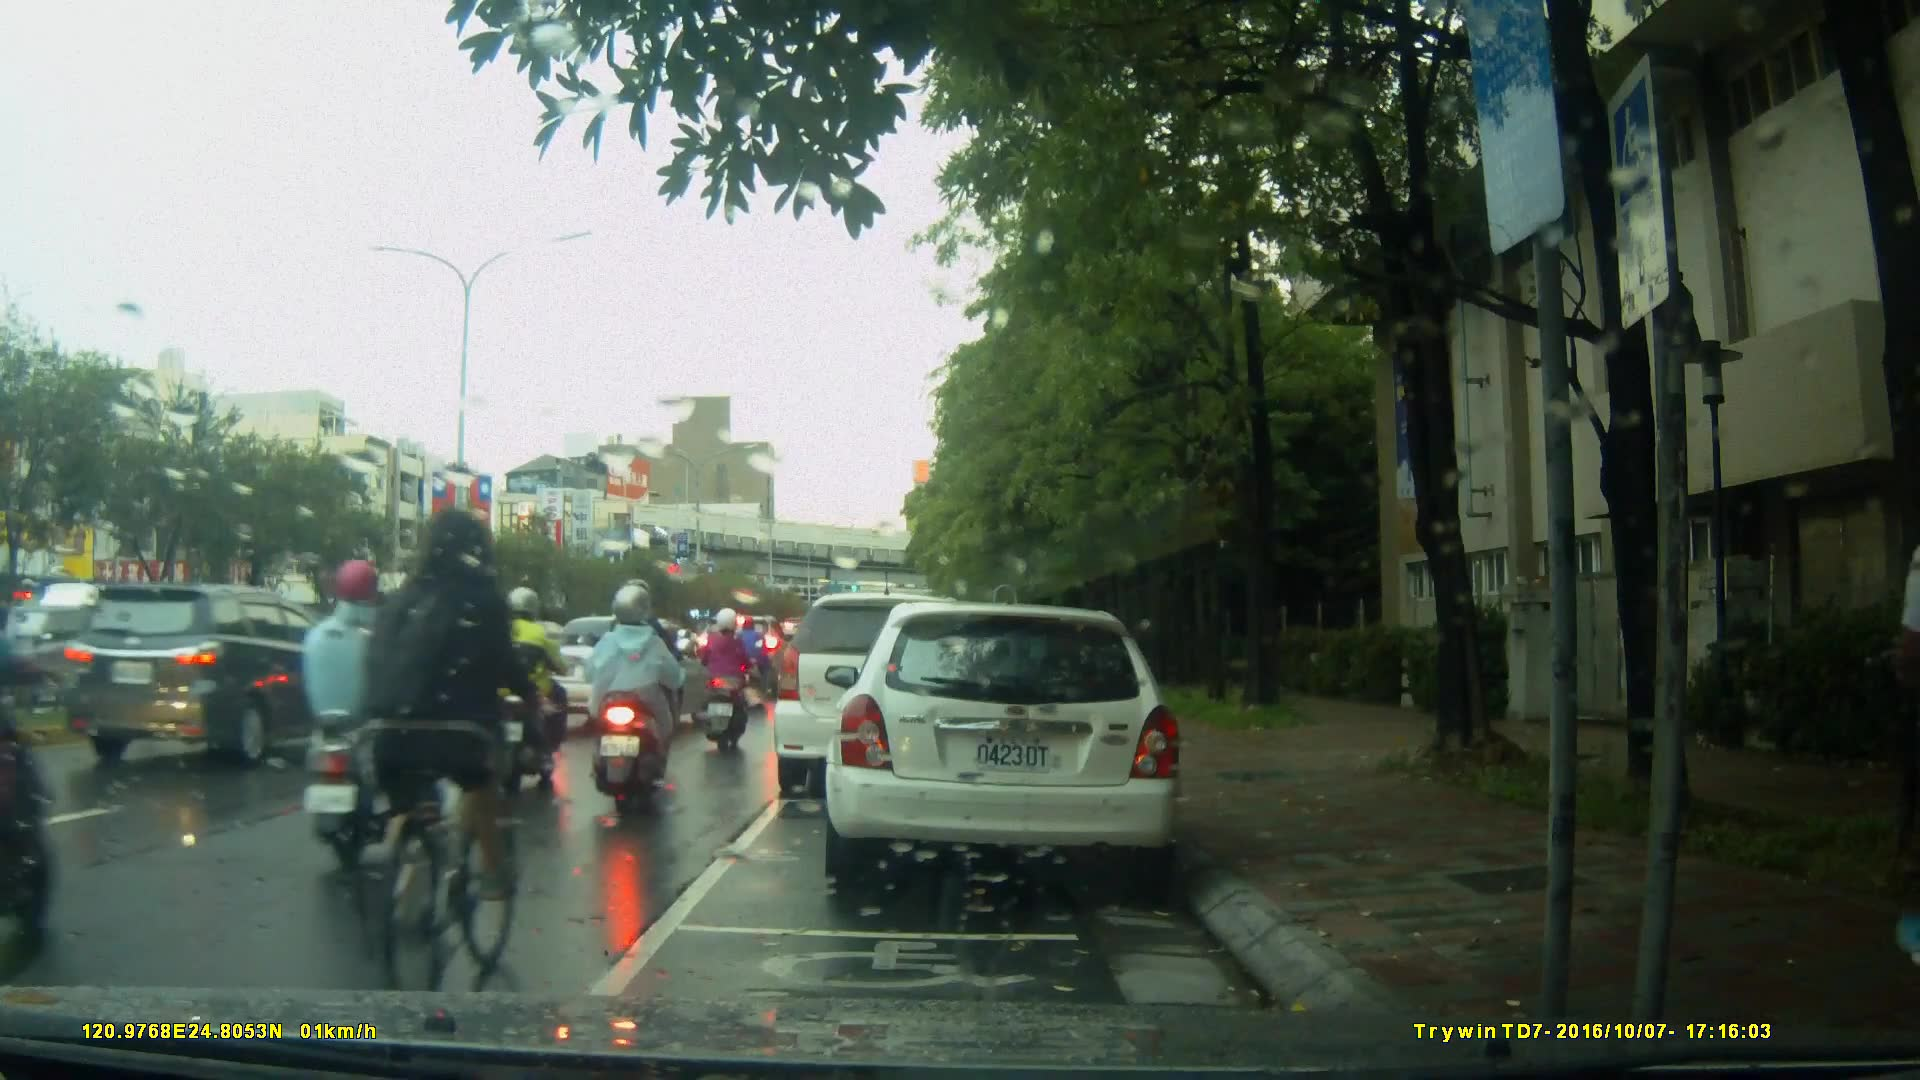rider: (368, 506, 556, 987), (312, 554, 432, 883), (484, 586, 581, 790), (599, 581, 685, 812), (605, 582, 690, 779), (693, 613, 756, 760), (726, 610, 772, 691)
vehicle: (822, 604, 1188, 883), (58, 581, 375, 777), (774, 595, 995, 802)
